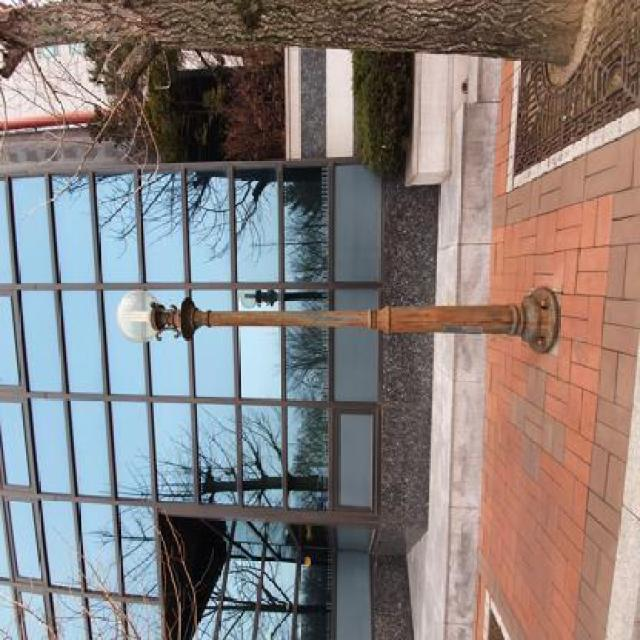pole: (112, 274, 566, 368)
